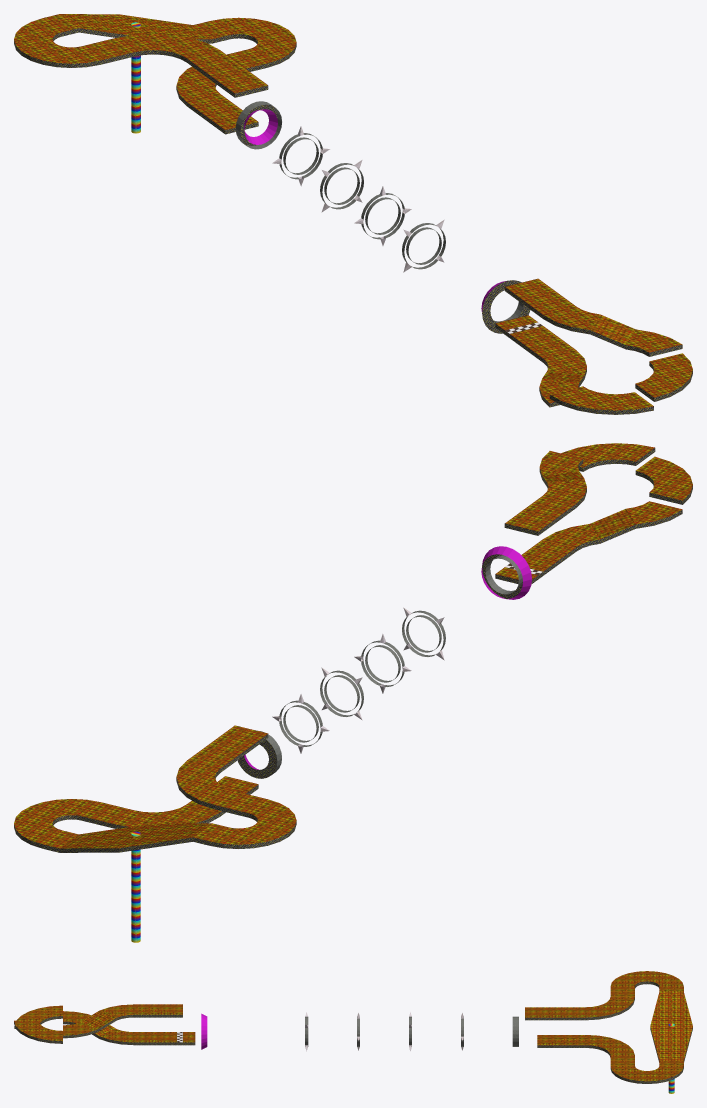
3 renders of one model, top to bottom at view 1: azimuth 30°, elevation 25°; view 2: azimuth 150°, elevation 25°; view 3: azimuth 270°, elevation 25°, orthographic. The views are drawn at different scales.
Parts seen in each view (by area): view 1: course-SKP--tube_road.001, course-SKP--tube_wall.001, course-SKP--tube_road_tube.001, course-SKP--tube_wall_colomn.001, course-SKP--tube_spike.001, course-SKP--tube_boost.001; view 2: course-SKP--tube_road.001, course-SKP--tube_wall.001, course-SKP--tube_road_tube.001, course-SKP--tube_wall_colomn.001, course-SKP--tube_boost.001; view 3: course-SKP--tube_road.001, course-SKP--tube_wall.001, course-SKP--tube_road_tube.001, course-SKP--tube_boost.001.
Part boxes in pixels (<box>): course-SKP--tube_road.001: <box>14,14,692,410</box>; course-SKP--tube_wall.001: <box>14,28,692,414</box>; course-SKP--tube_road_tube.001: <box>235,101,523,322</box>; course-SKP--tube_wall_colomn.001: <box>131,22,140,133</box>; course-SKP--tube_spike.001: <box>272,126,444,272</box>; course-SKP--tube_boost.001: <box>244,109,505,311</box>; course-SKP--tube_road.001: <box>14,443,692,848</box>; course-SKP--tube_wall.001: <box>14,448,692,852</box>; course-SKP--tube_road_tube.001: <box>257,555,522,774</box>; course-SKP--tube_wall_colomn.001: <box>131,831,140,942</box>; course-SKP--tube_boost.001: <box>244,546,531,769</box>; course-SKP--tube_road.001: <box>14,971,692,1081</box>; course-SKP--tube_wall.001: <box>14,981,692,1083</box>; course-SKP--tube_road_tube.001: <box>305,1016,518,1046</box>; course-SKP--tube_boost.001: <box>201,1013,207,1049</box>.
Bounding box in the file's own units: 32000 × 15000 × 111159.
Materials: 7 (7 with a texture image).
